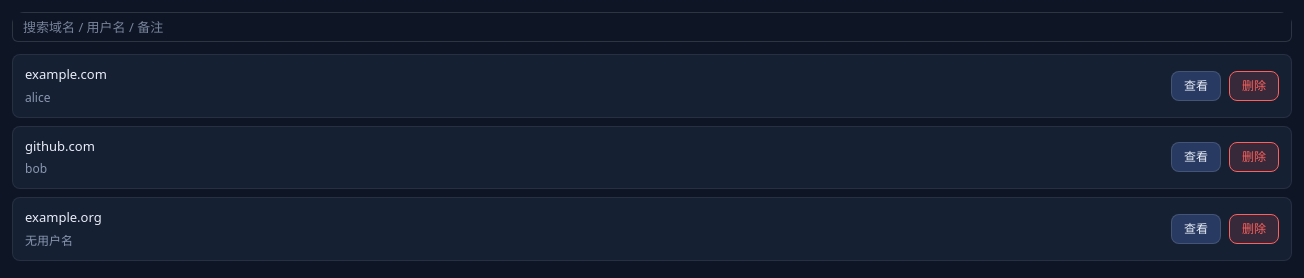
C-2 密码库搜索框 › 无匹配时显示「无匹配」空态
In the search field with class "search-input": (652, 27) [12, 12, 1292, 42], type "zzz-not-found"
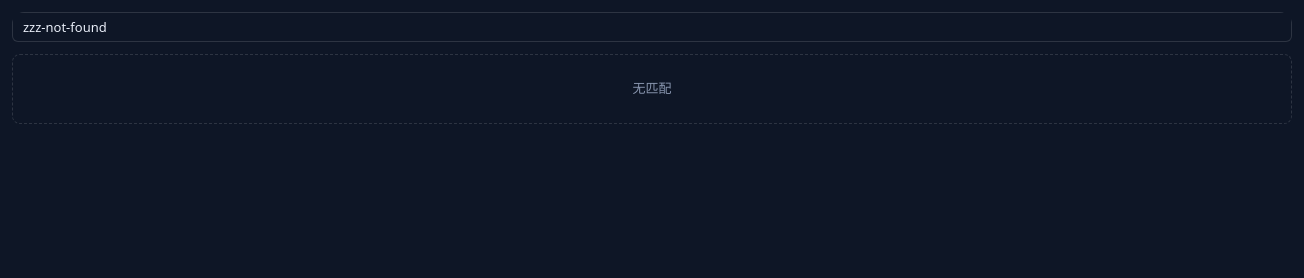
Result: the text with class "empty" reads "无匹配" at [632, 79, 672, 97]
